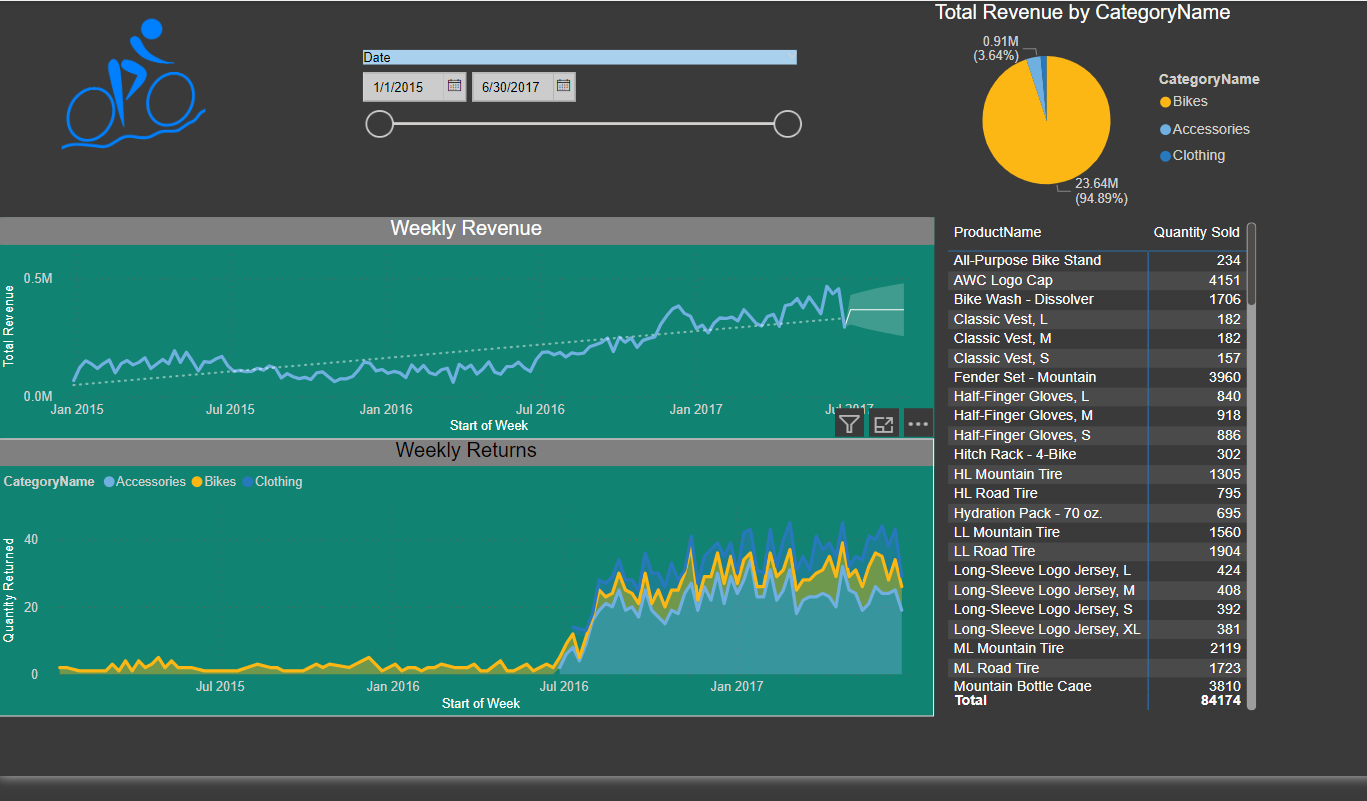

The page's visual inventory and layout, read from the dashboard file:
{"tool":"powerbi","page":{"name":"Product Details","canvas":[1280,720],"ordinal":1},"visuals":[{"type":"image","box":[0,11.6,252.1,131.3],"z":0},{"type":"lineChart","title":"Weekly Revenue ","fields":{"Y":["AW_Sales.Total Revenue"],"Category":["AW_Calendar_Lookup.Start of Week"]},"box":[0,201,870.3,205.7],"z":1},{"type":"stackedAreaChart","title":"Weekly Returns ","fields":{"Category":["AW_Calendar_Lookup.Start of Week"],"Y":["AW_Returns.Quantity Returned"],"Series":["AW_Product_Category_Lookup.CategoryName"]},"box":[0,406.7,870.3,258],"z":2},{"type":"pivotTable","fields":{"Rows":["AW_Product_Lookup.ProductName"],"Values":["AW_Sales.Quantity Sold"]},"box":[878.4,201,296.3,463.6],"z":3},{"type":"pieChart","fields":{"Category":["AW_Product_Category_Lookup.CategoryName"],"Y":["AW_Sales.Total Revenue"]},"box":[865.7,0,325.3,201],"z":4},{"type":"slicer","fields":{"Values":["AW_Calendar_Lookup.Date"]},"box":[326.5,40.7,428.8,102.3],"z":5}]}

Visuals, with their boxes on the page's 1280x720 design canvas (x1, y1, x2, y2). These are canvas units, not pixel positions in the 1367x801 screenshot, which may show the page scaled, cropped or inside an application window:
image: box=[0, 12, 252, 143]
"Weekly Revenue " lineChart: box=[0, 201, 870, 407]
"Weekly Returns " stackedAreaChart: box=[0, 407, 870, 665]
pivotTable - AW_Product_Lookup.ProductName x AW_Sales.Quantity Sold: box=[878, 201, 1175, 665]
pieChart - AW_Product_Category_Lookup.CategoryName x AW_Sales.Total Revenue: box=[866, 0, 1191, 201]
slicer - AW_Calendar_Lookup.Date: box=[326, 41, 755, 143]
